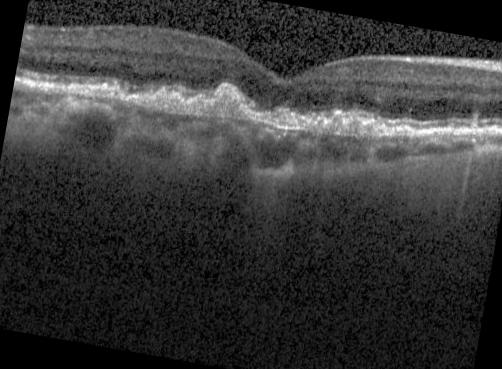subretinal_hyperreflective_material: (126, 81, 414, 135)
